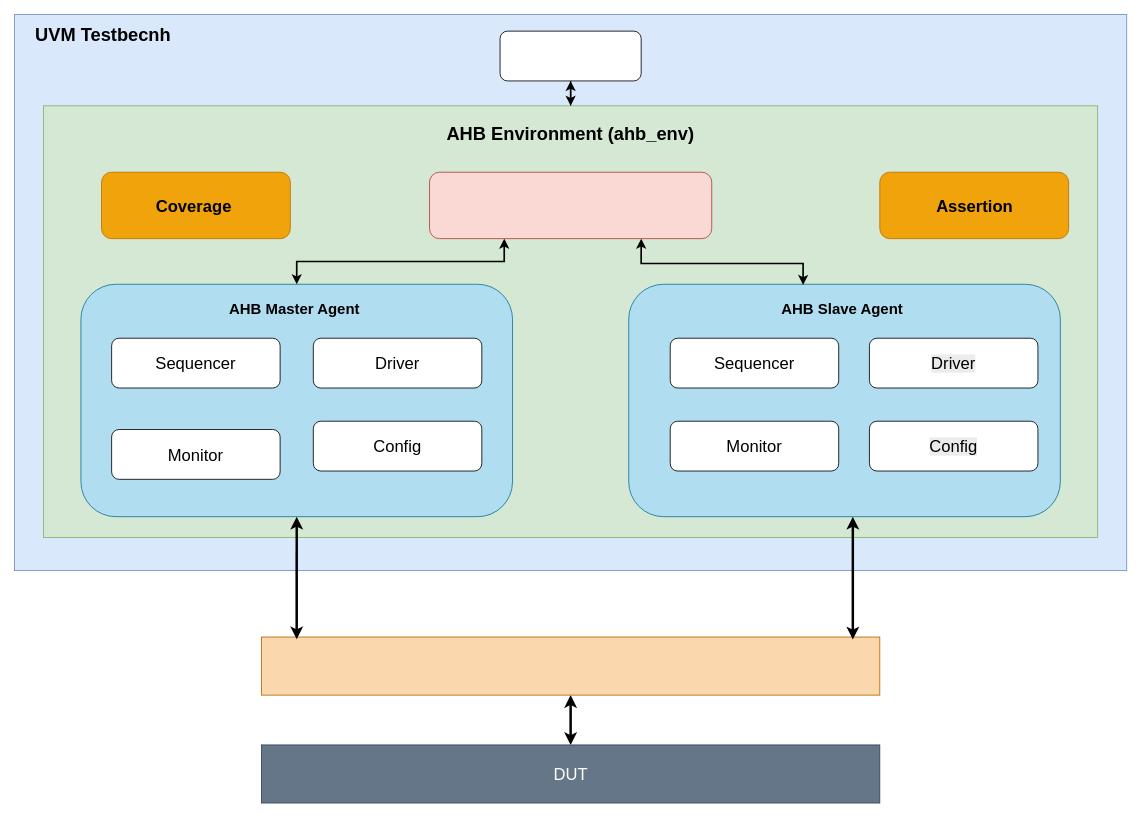
This 1141x818 diagram has some shape labels left out. The shapes that lost their labels are listed below. From the top down, each one's centre as x and y in pixels, then its label:
At point 570,55: "AHB Test".
At point 570,205: "Scoreboard".
At point 570,665: "AHB Interface (ahb_if)".
